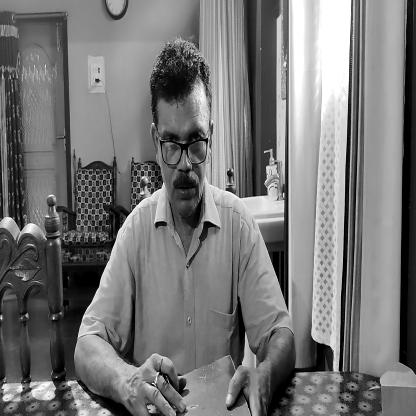Normal: (152, 68, 214, 214)
